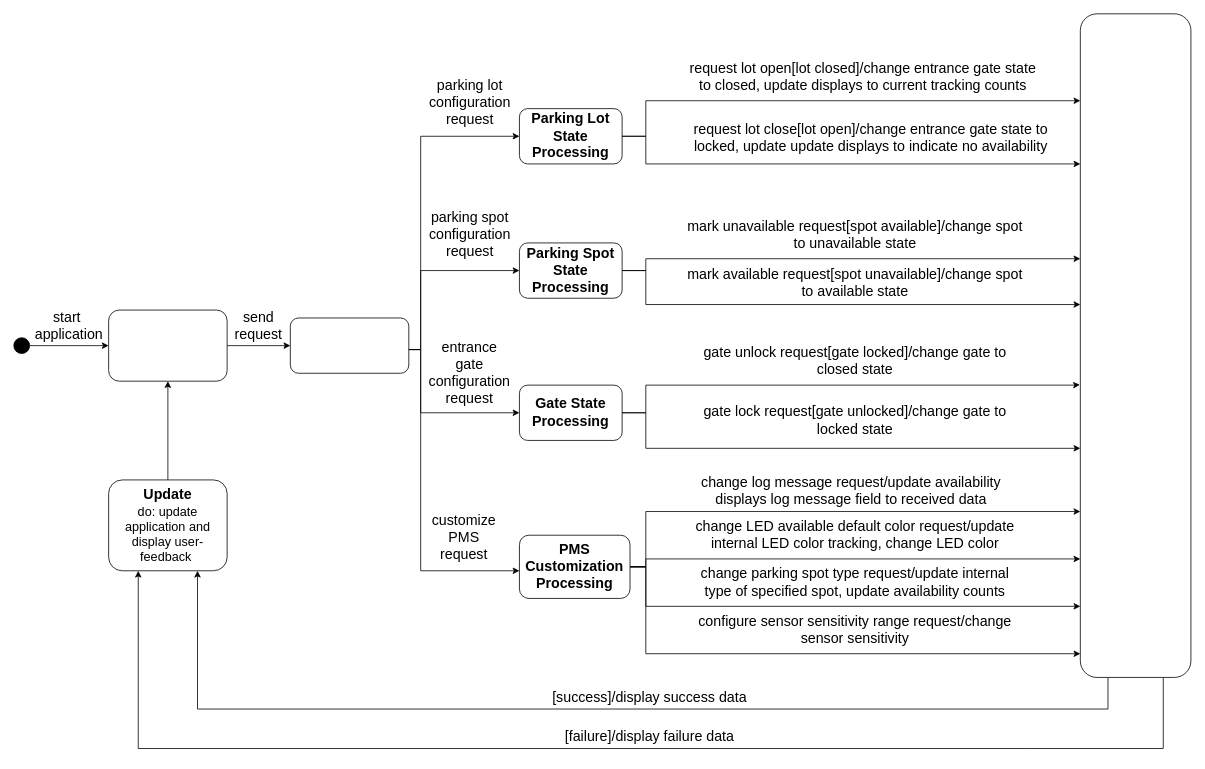
Image size: 1205x769. Some labels were removed from this diagram. Here are the shapes that lost their labels. From the top down, the centre of each, then its label:
point (167, 345): Admin Main Control do: await admin request
point (349, 345): PMS Processing do: determine request type
point (1135, 345): External Interface Communication do: await action confirmation
